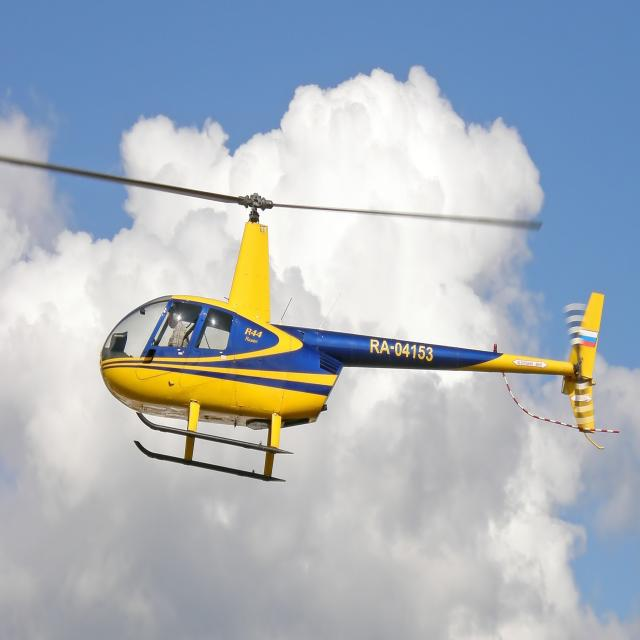CIV_HELO: (95, 189, 607, 487)
